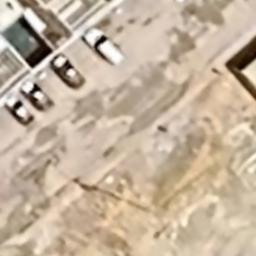SUV: (81, 24, 126, 68)
sedan: (48, 50, 88, 90), (19, 78, 55, 112), (4, 94, 36, 127)
